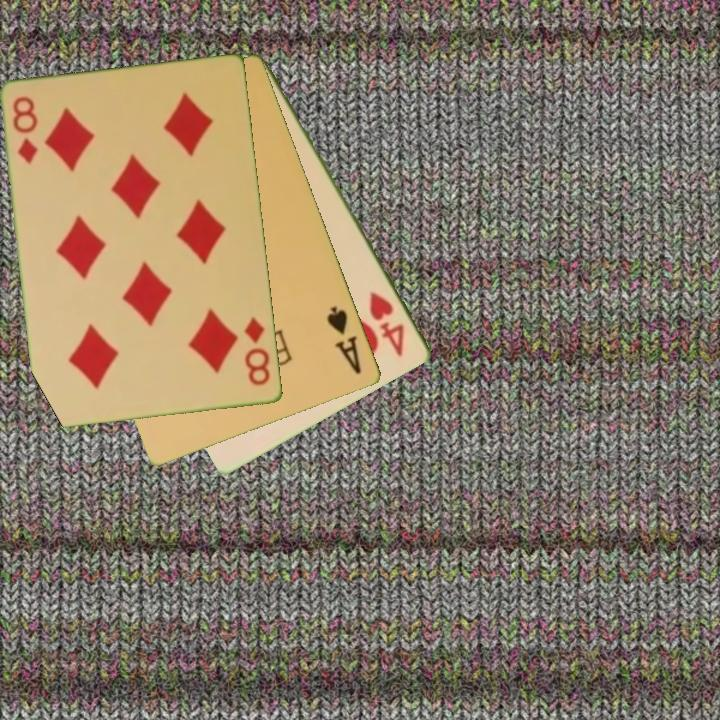4h: (366, 288, 408, 360)
8d: (9, 93, 42, 167), (241, 314, 273, 389)
As: (323, 302, 365, 378)
